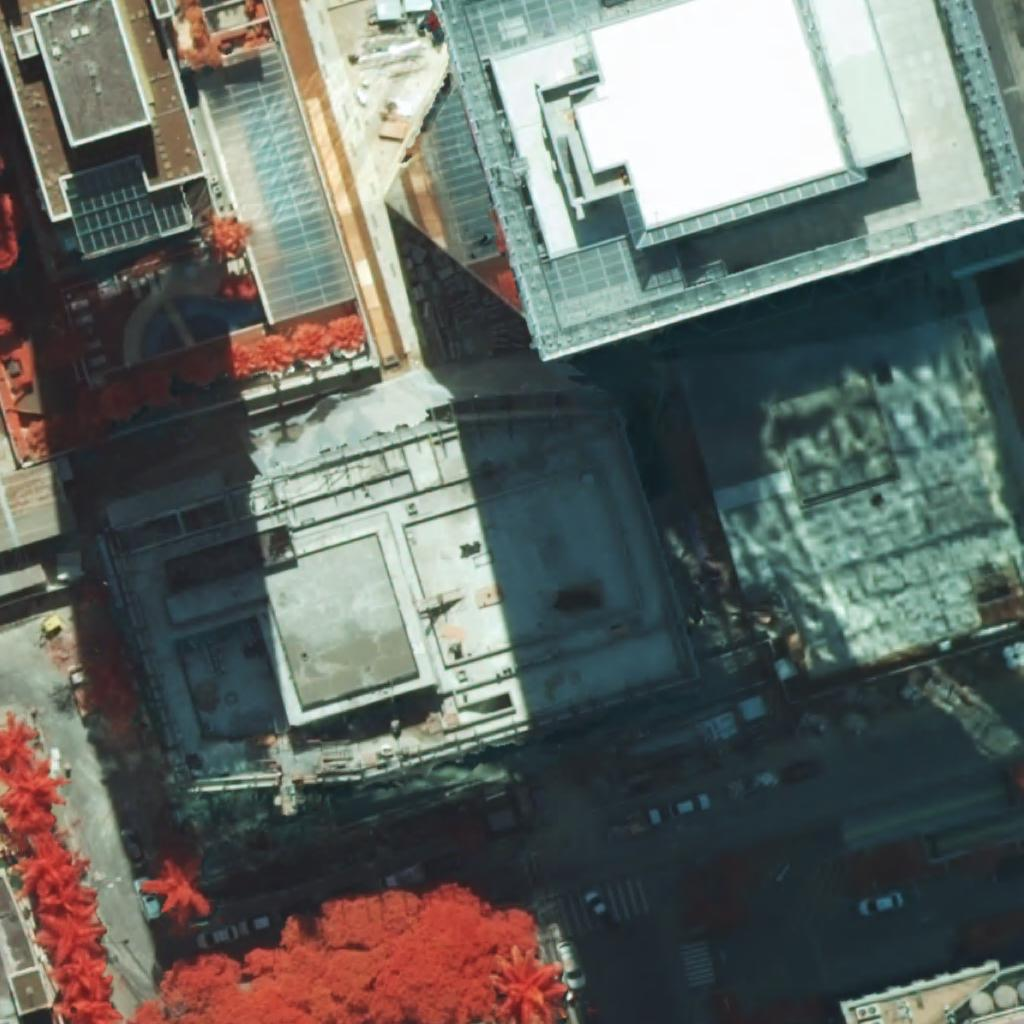pool: (140, 295, 244, 359)
